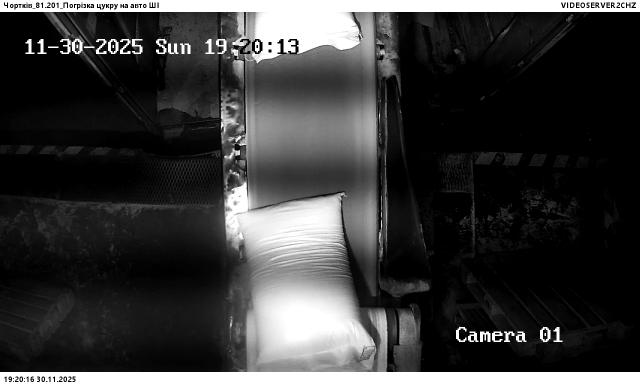bag: (235, 193, 377, 364), (254, 12, 361, 61)
